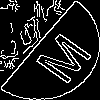M: (25, 25, 94, 87)
